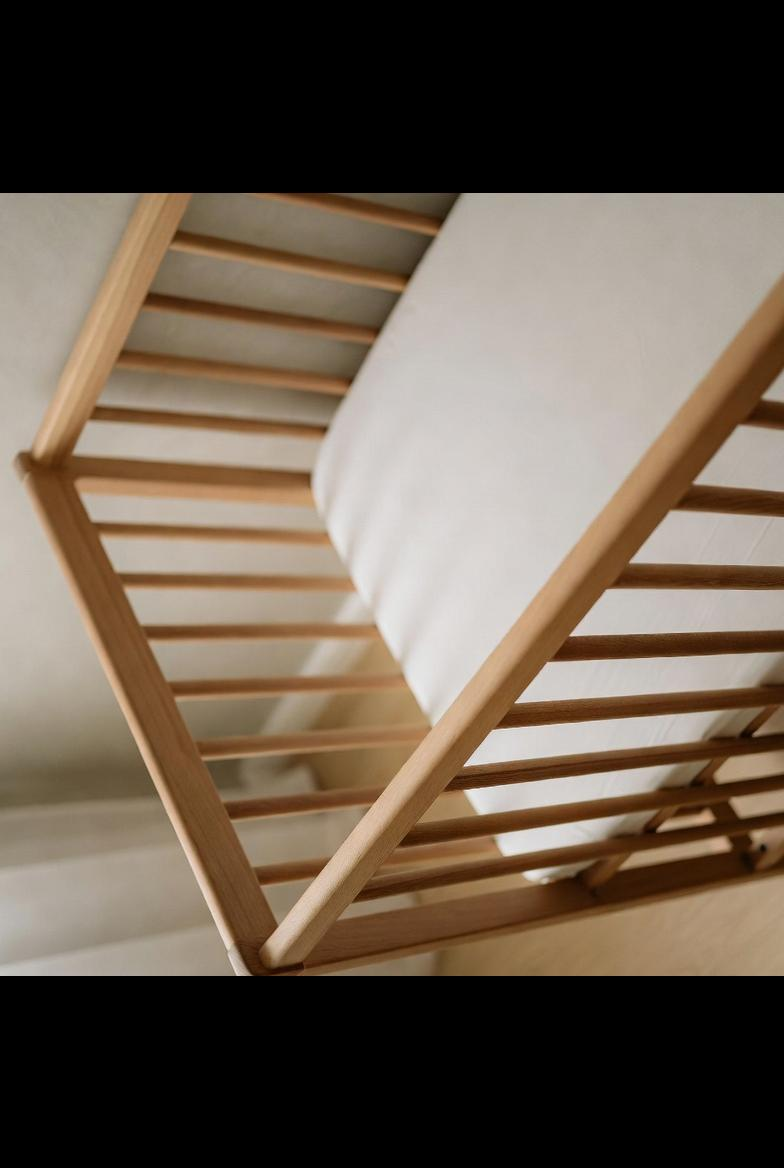crib: (17, 192, 784, 976)
